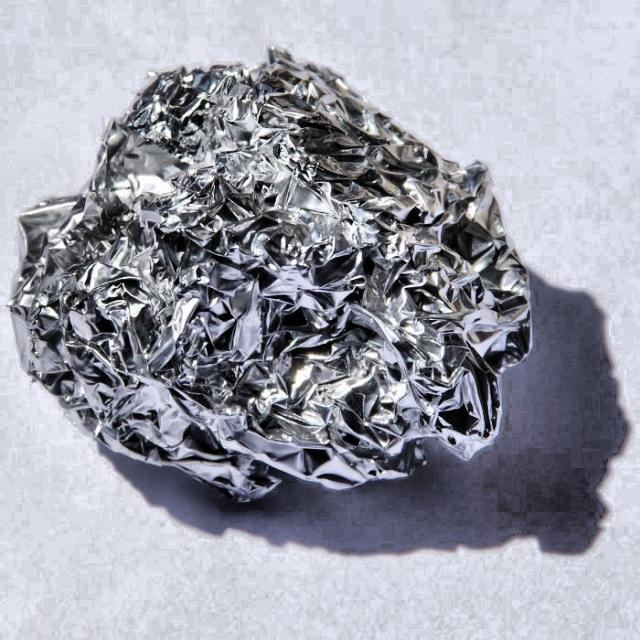Foil: (8, 40, 542, 522)
